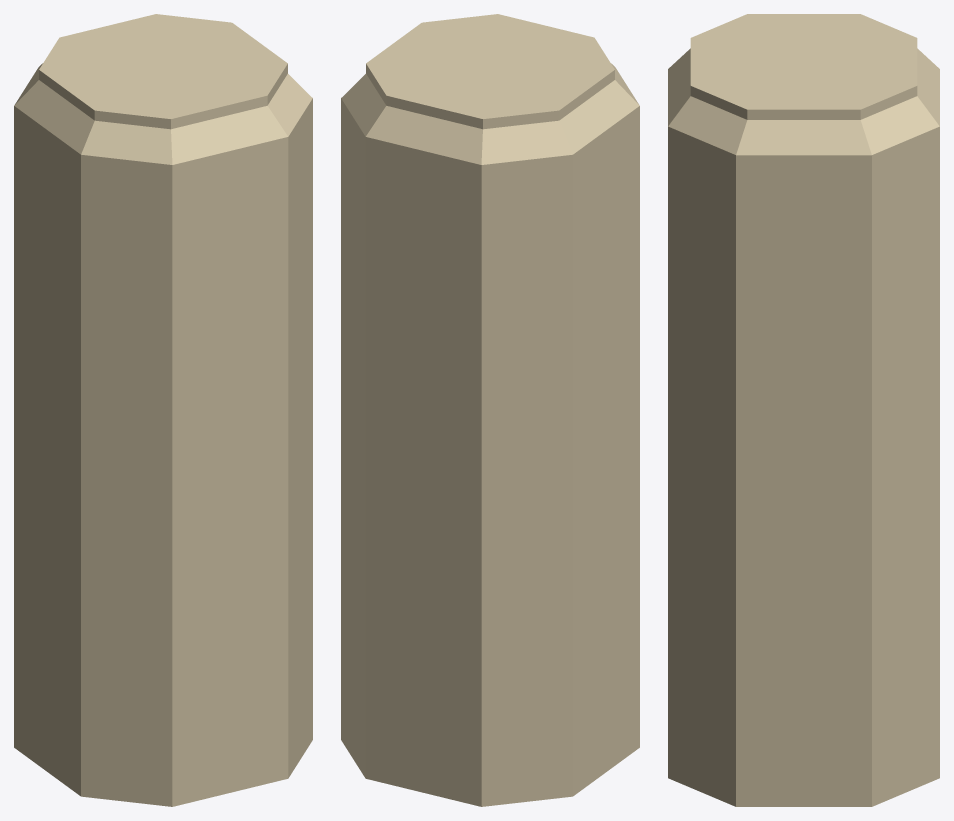
Rendered from column01a_base.fbx.
3 views of the same model, side by side, from view 1: azimuth 30°, elevation 25°; view 2: azimuth 150°, elevation 25°; view 3: azimuth 270°, elevation 25° (orthographic).
Parts seen in each view (by area): view 1: column01a_base_reference; view 2: column01a_base_reference; view 3: column01a_base_reference.
Boxes of the visible parts, x1=… form: column01a_base_reference: x1=14, y1=14, x2=312, y2=806; column01a_base_reference: x1=341, y1=14, x2=639, y2=806; column01a_base_reference: x1=668, y1=14, x2=939, y2=806.
Size of the model in its own units: 2400 by 6700 by 2400.
